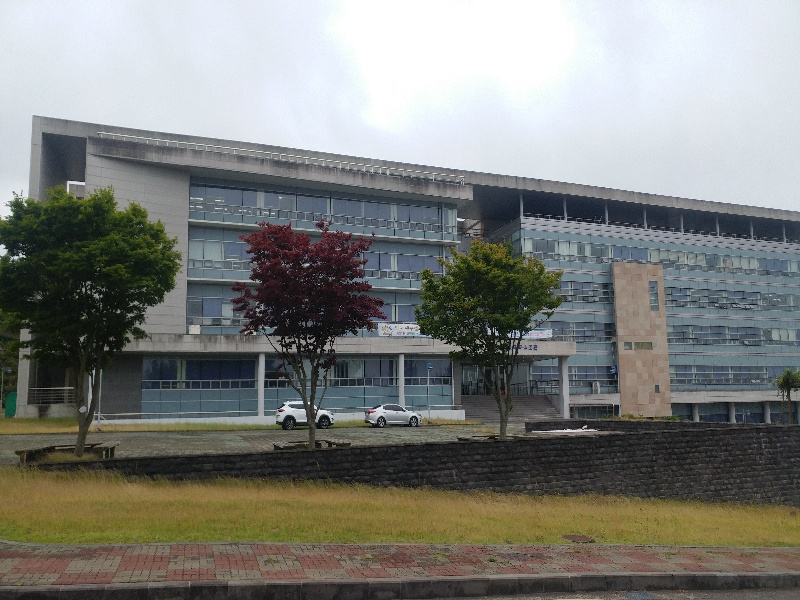Engineering College Building 4: (34, 115, 796, 404), (534, 179, 787, 393)
